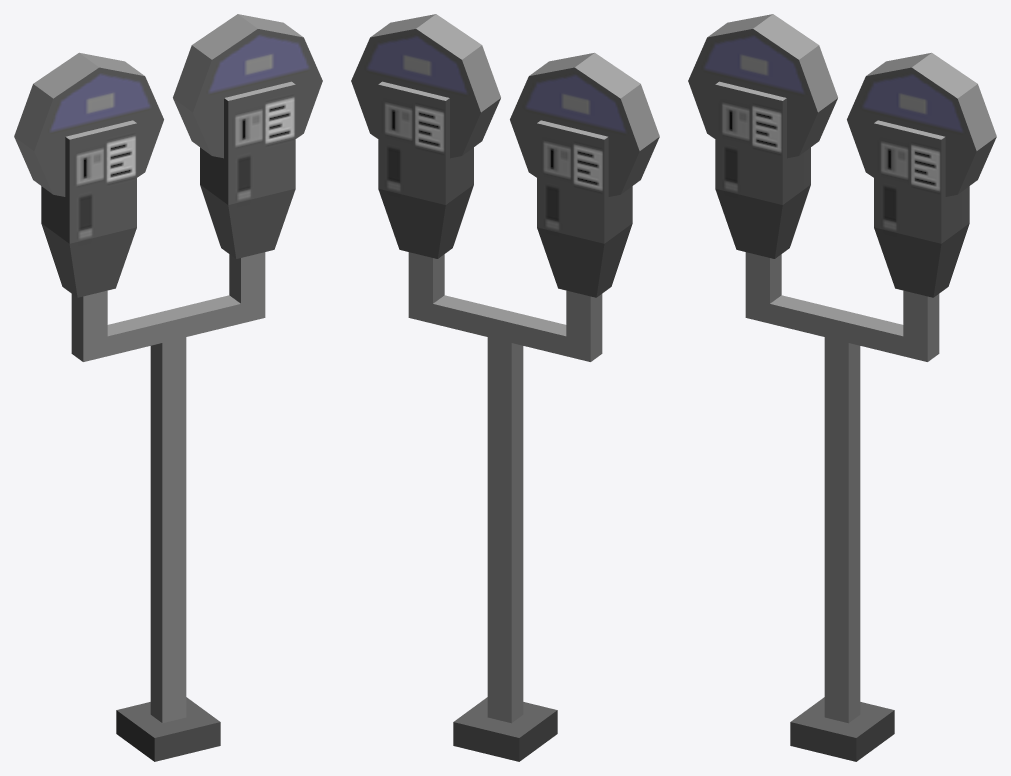
File: SM_ParkingMeter_Double_01.fbx
The picture shows the model from 3 angles, left to right: view 1: azimuth 30°, elevation 25°; view 2: azimuth 150°, elevation 25°; view 3: azimuth 330°, elevation 25°; orthographic projection.
Parts seen in each view (by area): view 1: SM_ParkingMeter_Double_01; view 2: SM_ParkingMeter_Double_01; view 3: SM_ParkingMeter_Double_01.
Boxes of the visible parts, x1,y1,x2,y2 form: SM_ParkingMeter_Double_01: (14,14,322,761); SM_ParkingMeter_Double_01: (351,14,659,761); SM_ParkingMeter_Double_01: (688,14,996,761).
Size of the model in its own units: 1 by 2.32 by 0.23.
